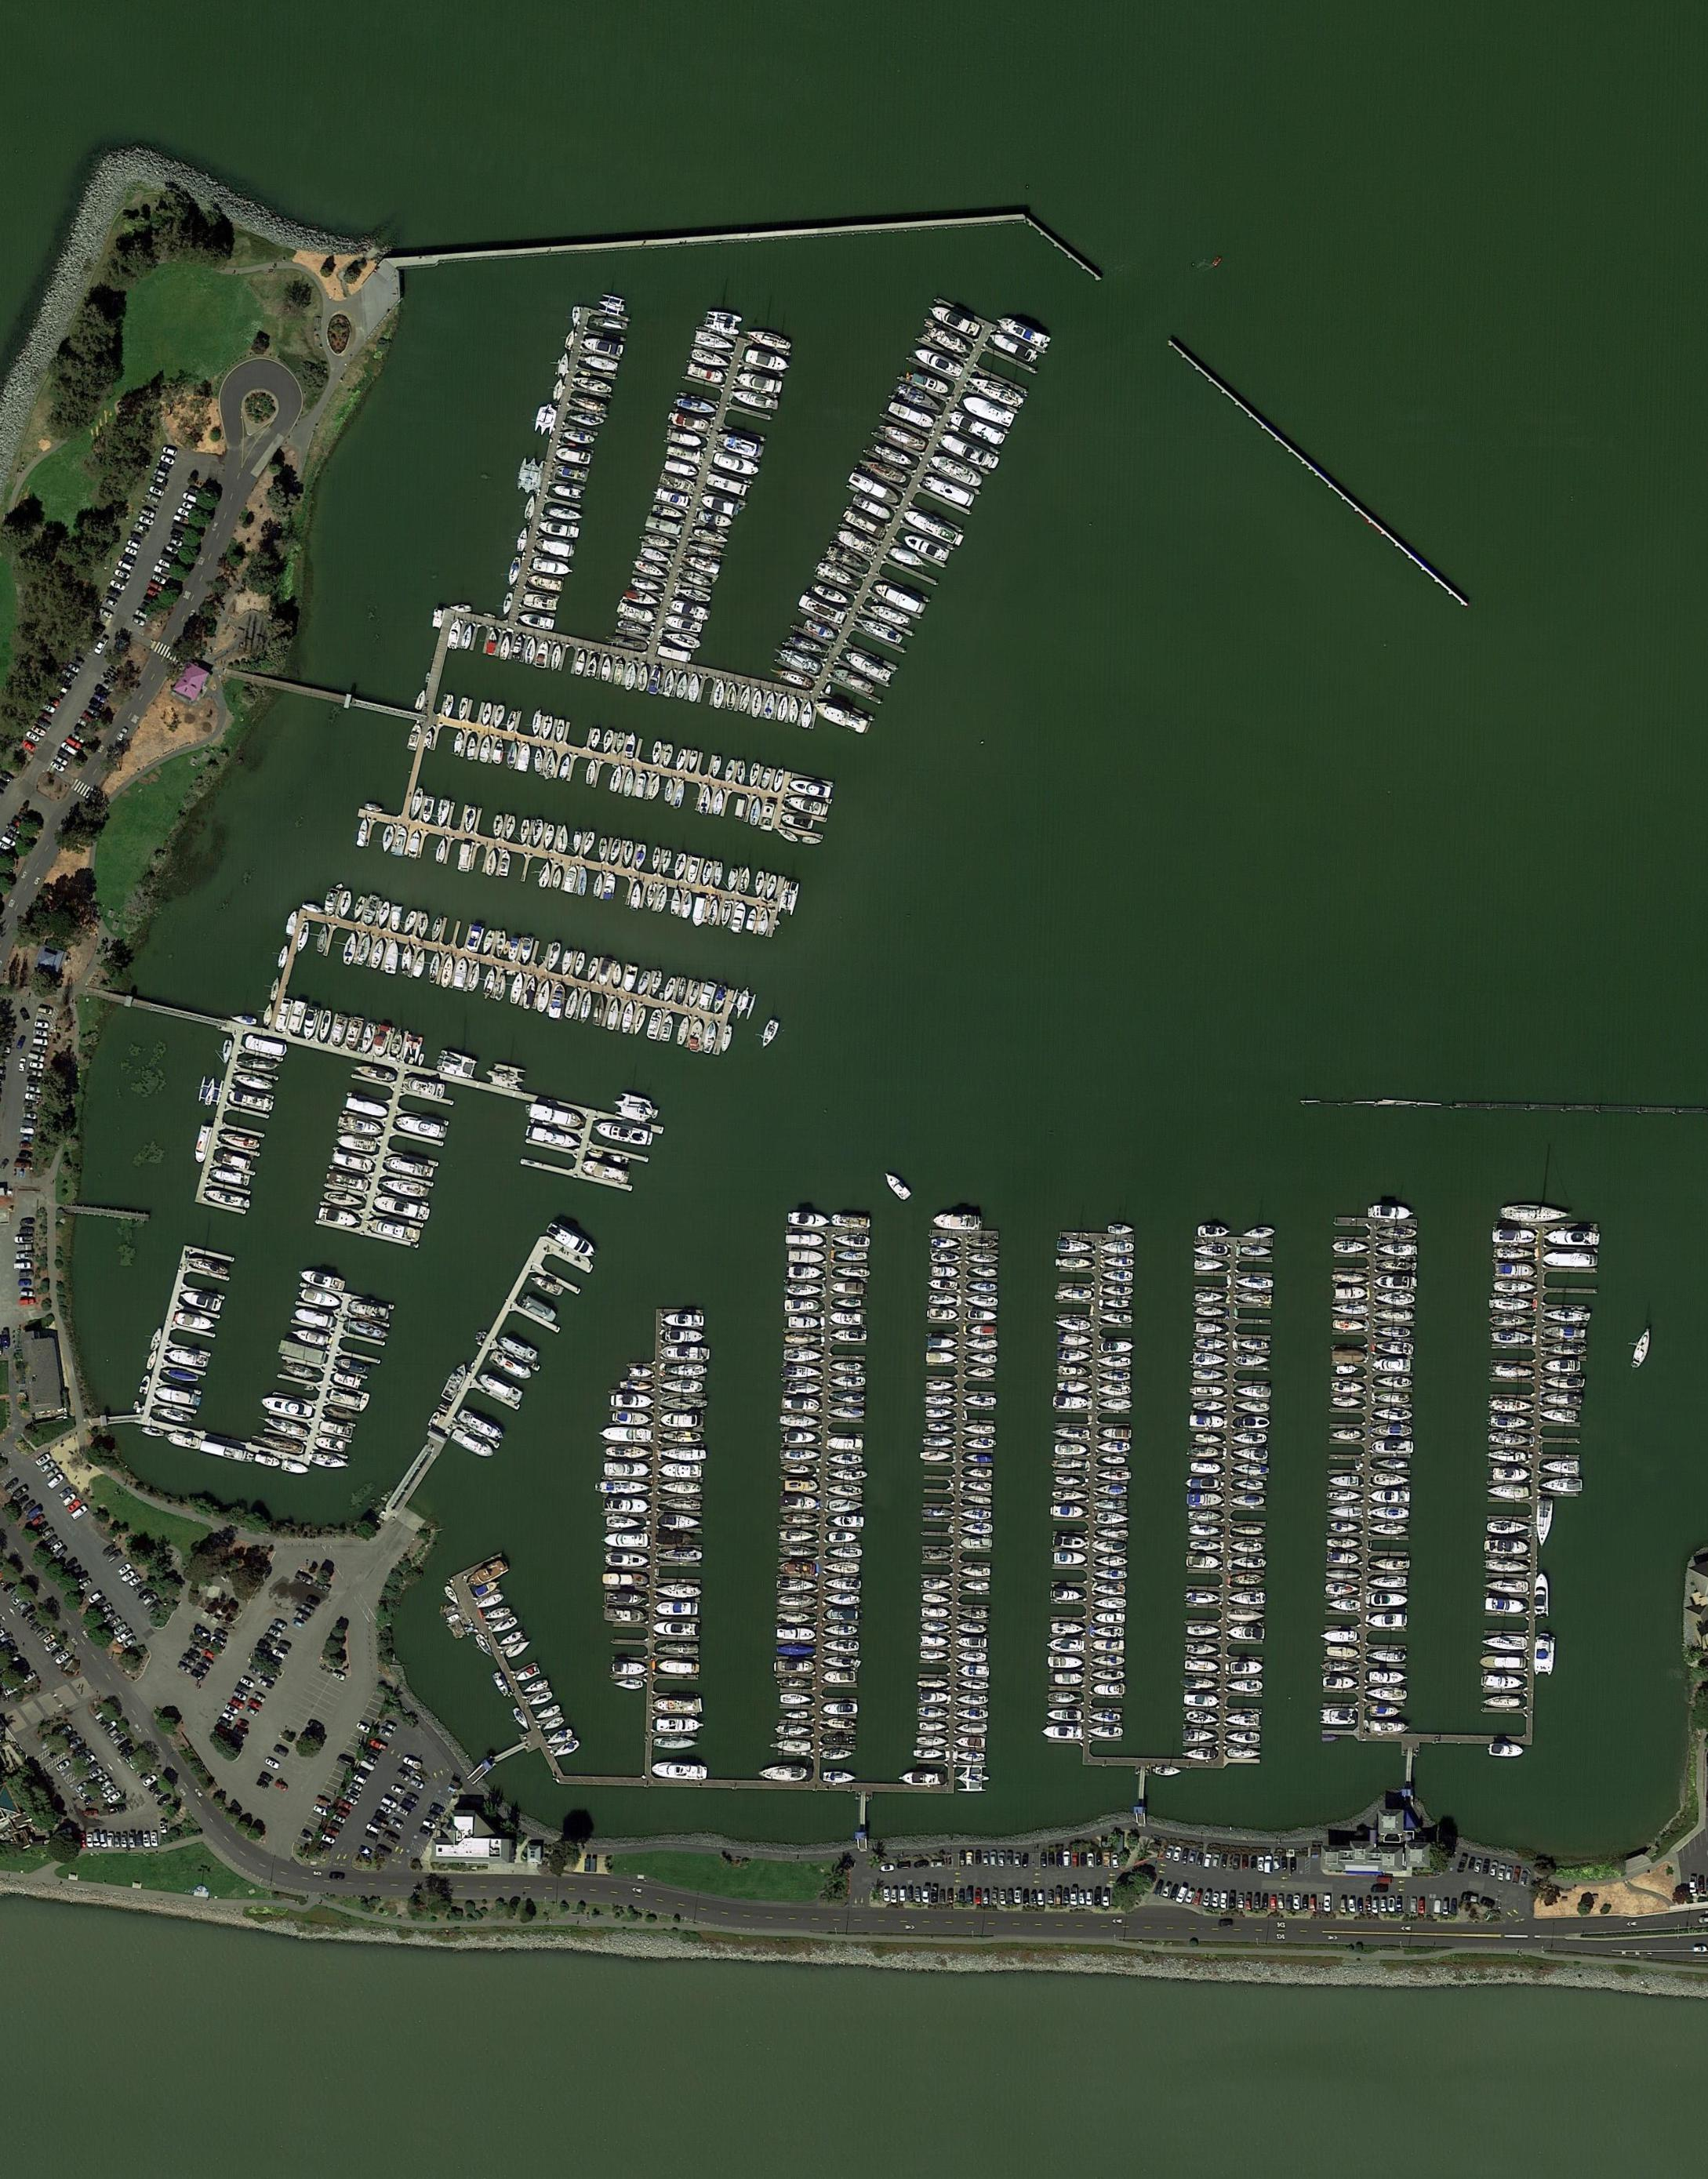harbor: (771, 297, 1048, 715), (299, 883, 737, 1058), (606, 322, 794, 661), (426, 692, 836, 842), (1480, 1219, 1600, 1719), (391, 789, 787, 937), (774, 1224, 872, 1779), (594, 1304, 705, 1778), (1321, 1213, 1418, 1732), (1181, 1236, 1275, 1760), (1045, 1231, 1137, 1756), (914, 1227, 999, 1788), (451, 610, 819, 730), (506, 306, 631, 630), (437, 1235, 598, 1461), (449, 1553, 601, 1781), (315, 1063, 456, 1249), (260, 1282, 394, 1468), (141, 1245, 235, 1429), (194, 1036, 286, 1215), (522, 1093, 667, 1197), (265, 996, 414, 1070)
ship: (937, 432, 1003, 474), (946, 409, 1008, 451), (926, 301, 985, 343), (965, 371, 1027, 410), (958, 391, 1017, 432), (926, 453, 987, 492), (900, 508, 960, 547), (840, 646, 896, 686), (545, 1220, 599, 1261), (872, 582, 930, 619), (812, 699, 870, 736), (995, 313, 1050, 350), (912, 343, 965, 380), (849, 470, 902, 508), (919, 474, 974, 509), (612, 1088, 663, 1125), (923, 322, 972, 359), (456, 1408, 506, 1445), (987, 329, 1038, 364), (371, 1194, 431, 1224), (852, 614, 905, 647), (594, 1120, 652, 1150), (525, 1121, 583, 1151), (366, 1217, 424, 1247), (859, 453, 909, 488), (797, 593, 847, 628), (447, 1426, 497, 1461), (774, 644, 826, 677), (863, 598, 914, 631), (895, 382, 946, 416), (527, 1102, 583, 1132), (877, 421, 930, 453), (486, 1349, 536, 1383), (840, 509, 888, 543), (833, 525, 879, 559), (900, 532, 951, 562), (1499, 1203, 1572, 1224), (889, 400, 937, 432), (477, 1372, 525, 1404), (256, 1394, 313, 1420), (394, 1112, 447, 1141), (736, 368, 785, 398), (714, 432, 764, 462), (713, 449, 762, 479), (810, 578, 854, 612), (467, 1556, 511, 1590), (495, 1334, 541, 1365), (378, 1174, 430, 1203), (815, 559, 859, 591), (483, 1061, 527, 1093), (382, 1155, 435, 1181), (732, 387, 782, 416), (831, 667, 877, 697), (769, 663, 815, 693), (438, 1360, 472, 1401), (744, 325, 796, 352), (582, 1158, 629, 1187), (1627, 1325, 1657, 1369), (299, 1266, 348, 1293), (872, 442, 918, 470), (852, 493, 895, 524), (824, 543, 866, 573), (437, 1051, 479, 1081), (256, 1413, 308, 1438), (200, 1440, 255, 1463), (888, 545, 932, 573), (907, 368, 951, 396), (668, 596, 713, 624), (152, 1387, 202, 1411), (746, 347, 792, 373), (668, 409, 714, 435), (401, 1074, 447, 1100), (249, 1433, 306, 1454), (226, 1089, 274, 1114), (705, 472, 750, 499), (615, 601, 660, 628), (684, 361, 728, 387), (299, 1286, 343, 1312), (787, 630, 827, 658), (787, 776, 833, 801), (663, 426, 705, 453), (515, 456, 545, 493), (728, 983, 757, 1022), (202, 1187, 249, 1210), (674, 394, 718, 419), (347, 1300, 391, 1325), (339, 1114, 384, 1139), (345, 1097, 389, 1121), (882, 1167, 914, 1201), (660, 628, 705, 651), (163, 1348, 209, 1371), (803, 615, 840, 644), (522, 1295, 559, 1323), (180, 1289, 223, 1314), (331, 1150, 373, 1174), (327, 1169, 370, 1194), (704, 308, 743, 334), (527, 1272, 566, 1298), (785, 794, 829, 817), (532, 538, 576, 561), (532, 557, 576, 580), (316, 1206, 361, 1229), (691, 347, 732, 371), (638, 529, 679, 554), (629, 557, 670, 582), (294, 1305, 334, 1330), (290, 1325, 331, 1349), (322, 1187, 362, 1212), (651, 1763, 707, 1781), (1535, 1498, 1554, 1549), (700, 492, 737, 518), (660, 472, 697, 499), (582, 336, 624, 359), (538, 518, 580, 541), (693, 331, 736, 354), (209, 1167, 251, 1190), (219, 1130, 262, 1153), (336, 1134, 378, 1157), (242, 1036, 288, 1058), (932, 1212, 981, 1231), (665, 612, 704, 637), (622, 587, 661, 612), (651, 501, 690, 525), (603, 1424, 652, 1443), (953, 1765, 988, 1792), (345, 1319, 389, 1341), (237, 1054, 281, 1075), (605, 631, 649, 653), (573, 373, 614, 396), (189, 1256, 230, 1279), (281, 1360, 322, 1383), (603, 1569, 651, 1588), (555, 444, 592, 469), (665, 456, 702, 481), (776, 881, 801, 918), (569, 394, 612, 416), (173, 1312, 216, 1334), (232, 1072, 274, 1093), (1535, 1634, 1556, 1677), (682, 554, 721, 577), (667, 444, 705, 467), (598, 292, 631, 318), (532, 401, 559, 435), (661, 1344, 711, 1362), (757, 1017, 782, 1052), (596, 1479, 651, 1495), (1544, 1229, 1598, 1245), (589, 315, 629, 336), (578, 352, 619, 373), (686, 539, 727, 561), (154, 1404, 194, 1426), (214, 1150, 255, 1171), (605, 1606, 649, 1625), (527, 571, 564, 594), (522, 591, 559, 614), (697, 509, 734, 532), (693, 524, 730, 547), (675, 584, 713, 607), (191, 1127, 214, 1164), (603, 1532, 651, 1549), (196, 1075, 223, 1107), (1544, 1252, 1597, 1268), (308, 1452, 350, 1472), (354, 1065, 396, 1084), (656, 644, 695, 665), (617, 615, 652, 638), (605, 1496, 651, 1514), (605, 1551, 651, 1569), (652, 1620, 698, 1638), (566, 410, 606, 430), (757, 1765, 806, 1781), (677, 568, 714, 589), (518, 610, 555, 631), (401, 1031, 426, 1063), (1369, 1203, 1413, 1220), (605, 1461, 649, 1479), (1483, 1539, 1528, 1556), (1482, 1634, 1526, 1652), (629, 573, 663, 596), (900, 1770, 948, 1786), (654, 1583, 702, 1599), (652, 1698, 700, 1714), (656, 1717, 704, 1733), (1369, 1487, 1411, 1505), (329, 1013, 350, 1049), (343, 1017, 364, 1052), (357, 1021, 378, 1056), (1485, 1486, 1531, 1502), (1483, 1578, 1529, 1594), (550, 1739, 582, 1762), (1370, 1611, 1407, 1631), (336, 1357, 373, 1376), (322, 1404, 359, 1424), (164, 1431, 202, 1450), (776, 1576, 817, 1594), (1376, 1273, 1416, 1291), (1485, 1597, 1526, 1615), (656, 488, 690, 509), (638, 547, 672, 568), (1365, 1719, 1409, 1735), (1492, 1229, 1536, 1245), (1369, 1424, 1413, 1440), (661, 1328, 705, 1344), (654, 1601, 698, 1617), (660, 1397, 709, 1411), (545, 1726, 575, 1749), (490, 1615, 520, 1638), (562, 428, 598, 447), (320, 1420, 355, 1440), (785, 1231, 824, 1249), (1492, 1466, 1531, 1484), (548, 982, 566, 1021), (339, 932, 359, 967), (1041, 1724, 1084, 1740), (773, 1659, 815, 1675), (661, 1463, 704, 1479), (658, 1514, 700, 1530), (787, 1210, 829, 1226), (660, 1548, 702, 1564), (1542, 1309, 1590, 1323), (1540, 1479, 1582, 1495), (546, 506, 583, 524), (555, 463, 589, 483), (301, 1006, 320, 1040), (373, 1024, 393, 1058), (709, 983, 728, 1017), (700, 1021, 720, 1054), (286, 1001, 306, 1035), (408, 787, 428, 821), (728, 900, 748, 934), (654, 1735, 700, 1749), (610, 1395, 656, 1410), (1483, 1558, 1529, 1572), (1480, 1655, 1526, 1670), (1369, 1505, 1409, 1521), (785, 1298, 826, 1314), (1487, 1519, 1528, 1535), (534, 860, 555, 890), (502, 1640, 532, 1661), (476, 1592, 506, 1613), (492, 1670, 513, 1700), (958, 1535, 994, 1553), (1050, 1533, 1086, 1551), (1491, 1365, 1535, 1380), (1489, 1399, 1533, 1413), (1489, 1415, 1533, 1429), (661, 1314, 705, 1328), (660, 1380, 704, 1394), (661, 1447, 705, 1461), (656, 1641, 700, 1655), (619, 999, 637, 1035), (536, 978, 553, 1013), (1535, 1574, 1549, 1618), (831, 1213, 870, 1229), (778, 1544, 817, 1560), (826, 1436, 865, 1452), (1227, 1625, 1266, 1641), (1367, 1650, 1406, 1666), (1496, 1263, 1535, 1279), (1372, 1358, 1411, 1374), (782, 812, 813, 831), (161, 1367, 200, 1383), (362, 893, 382, 925), (562, 985, 582, 1017), (354, 934, 373, 966), (1542, 1459, 1581, 1475), (1544, 1390, 1582, 1406), (515, 1664, 541, 1687), (1365, 1687, 1407, 1701), (1494, 1281, 1536, 1295), (1491, 1330, 1533, 1344), (1487, 1433, 1529, 1447), (1370, 1440, 1413, 1454), (1367, 1523, 1409, 1537), (658, 1659, 700, 1673), (606, 1445, 649, 1459), (1485, 1449, 1528, 1463), (1545, 1342, 1588, 1357), (1480, 1675, 1522, 1689), (534, 1701, 562, 1723), (522, 1677, 550, 1698), (1050, 1586, 1084, 1604), (645, 1008, 663, 1042), (675, 1015, 693, 1049), (688, 1017, 705, 1051), (295, 920, 313, 953), (382, 941, 400, 975), (509, 971, 527, 1005), (782, 1495, 819, 1510), (1227, 1608, 1264, 1624), (1376, 1341, 1413, 1357), (1087, 1724, 1125, 1740), (787, 1249, 824, 1265), (787, 1265, 824, 1281), (660, 975, 679, 1005), (698, 982, 718, 1012), (465, 923, 484, 953), (771, 1739, 812, 1753), (1377, 1243, 1418, 1258), (1376, 1259, 1416, 1273), (1376, 1293, 1416, 1307), (782, 1397, 822, 1411), (661, 1480, 702, 1495), (606, 1590, 647, 1604), (605, 1516, 645, 1530), (658, 1429, 704, 1441), (916, 1705, 951, 1721), (1057, 1238, 1093, 1254), (1056, 1254, 1091, 1270), (1057, 1316, 1093, 1332), (835, 1233, 870, 1249), (835, 1265, 870, 1281), (780, 1562, 815, 1578), (1326, 1645, 1361, 1661), (1321, 1709, 1356, 1724), (1096, 1440, 1132, 1456), (1236, 1415, 1271, 1431), (552, 485, 583, 502), (315, 1436, 347, 1454), (545, 941, 562, 973), (316, 1010, 334, 1042), (370, 937, 387, 969), (440, 953, 456, 989), (481, 966, 497, 1001), (522, 975, 538, 1010), (1052, 1395, 1091, 1410), (827, 1374, 866, 1388), (1377, 1226, 1416, 1240), (1374, 1408, 1413, 1422), (1370, 1556, 1409, 1571), (1369, 1576, 1407, 1590), (1232, 1463, 1271, 1477), (783, 1365, 822, 1380), (785, 1348, 824, 1362), (614, 1411, 652, 1426), (759, 803, 778, 831), (322, 888, 341, 916), (1545, 1376, 1584, 1390), (1482, 1694, 1521, 1709), (391, 826, 410, 854), (527, 1689, 555, 1709), (513, 1705, 532, 1733), (1491, 1298, 1535, 1311), (1491, 1314, 1535, 1327), (665, 1364, 709, 1376), (1542, 1327, 1586, 1339), (965, 1293, 999, 1309), (1054, 1551, 1087, 1567), (822, 1670, 856, 1686), (1369, 1703, 1402, 1719), (591, 994, 606, 1028), (578, 989, 594, 1022), (1542, 1408, 1575, 1424), (331, 1390, 361, 1408), (645, 773, 663, 803), (274, 1003, 292, 1033), (461, 805, 479, 835), (690, 898, 707, 929), (1048, 1640, 1086, 1654), (1047, 1655, 1084, 1670), (1047, 1709, 1084, 1723), (831, 1328, 868, 1342), (829, 1404, 866, 1418), (780, 1415, 822, 1427), (778, 1627, 815, 1641), (824, 1578, 861, 1592), (1326, 1505, 1363, 1519), (1326, 1537, 1363, 1551), (1227, 1680, 1264, 1694), (1376, 1374, 1413, 1388), (1229, 1592, 1266, 1606), (1094, 1355, 1132, 1369), (1231, 1447, 1268, 1461), (1186, 1493, 1224, 1507), (785, 1383, 822, 1397), (660, 1413, 697, 1427), (660, 1500, 702, 1512), (1544, 1358, 1581, 1372), (474, 1632, 495, 1657), (589, 872, 608, 898), (474, 1579, 500, 1599), (1227, 1712, 1259, 1728), (1093, 1682, 1125, 1698), (1094, 1482, 1126, 1498), (447, 619, 463, 651), (606, 998, 622, 1029), (315, 923, 331, 955), (412, 948, 428, 980), (453, 957, 469, 989), (555, 822, 571, 854), (672, 851, 688, 883), (506, 557, 522, 589), (1494, 1247, 1535, 1259), (1369, 1671, 1409, 1684), (1369, 1594, 1409, 1606), (1234, 1277, 1275, 1289), (1048, 1673, 1084, 1687), (1056, 1426, 1091, 1440), (1057, 1334, 1093, 1348), (829, 1452, 865, 1466), (780, 1528, 815, 1542), (829, 1500, 865, 1514), (822, 1701, 858, 1716), (1326, 1551, 1361, 1565), (1326, 1597, 1361, 1611), (1323, 1675, 1358, 1689), (1225, 1732, 1261, 1746), (1335, 1240, 1370, 1254), (1333, 1272, 1369, 1286), (1333, 1286, 1369, 1300), (1374, 1473, 1409, 1487), (1232, 1556, 1268, 1571), (1193, 1337, 1229, 1351), (1234, 1355, 1270, 1369), (1185, 1694, 1220, 1709), (1185, 1677, 1220, 1691), (460, 623, 477, 651), (332, 1372, 361, 1390), (787, 1282, 822, 1296), (709, 789, 727, 817), (697, 785, 714, 814), (481, 927, 499, 955), (598, 959, 615, 987), (562, 865, 580, 893), (601, 874, 619, 902), (628, 883, 645, 911), (652, 884, 670, 913), (631, 844, 649, 872), (736, 865, 753, 893), (407, 830, 424, 858), (484, 1606, 513, 1624), (1491, 1744, 1526, 1758), (776, 824, 799, 845), (778, 1594, 817, 1606), (829, 1468, 868, 1480), (1376, 1309, 1414, 1321), (799, 700, 815, 730), (647, 665, 663, 695), (437, 798, 453, 828), (530, 819, 546, 849), (686, 856, 702, 886), (228, 1010, 258, 1026), (960, 1521, 994, 1535), (918, 1691, 951, 1705), (835, 1249, 868, 1263), (778, 1609, 812, 1624), (1330, 1395, 1363, 1410), (1231, 1661, 1264, 1675), (1333, 1318, 1367, 1332), (1091, 1654, 1125, 1668), (1199, 1224, 1232, 1238), (1093, 1611, 1126, 1625), (1094, 1569, 1128, 1583), (1098, 1383, 1132, 1397), (1098, 1397, 1132, 1411), (1094, 1498, 1128, 1512), (1195, 1353, 1229, 1367), (1243, 1226, 1277, 1240), (1231, 1495, 1264, 1509), (1190, 1445, 1224, 1459), (1188, 1556, 1222, 1571), (1186, 1590, 1220, 1604), (1185, 1643, 1218, 1657), (614, 1663, 647, 1677), (621, 1378, 654, 1392), (582, 759, 599, 785), (299, 900, 325, 918), (265, 976, 283, 1003), (497, 851, 515, 877), (499, 1631, 525, 1648), (147, 1327, 164, 1353), (776, 1724, 813, 1737), (829, 1390, 866, 1403), (783, 1449, 820, 1461), (778, 1645, 815, 1657), (656, 1533, 693, 1546), (827, 1484, 865, 1496), (824, 1594, 861, 1606), (824, 1640, 861, 1652), (1331, 1302, 1369, 1314), (1236, 1293, 1273, 1305), (965, 1394, 997, 1408), (1052, 1622, 1084, 1636), (958, 1666, 990, 1680), (957, 1723, 988, 1737), (831, 1312, 863, 1327), (1330, 1521, 1361, 1535), (1094, 1597, 1126, 1611), (1093, 1625, 1125, 1640), (1093, 1640, 1125, 1654), (1197, 1243, 1229, 1258), (1100, 1427, 1132, 1441), (1098, 1468, 1130, 1482), (1094, 1542, 1126, 1556), (1096, 1555, 1128, 1569), (1183, 1730, 1215, 1744), (1188, 1539, 1220, 1553), (750, 690, 766, 718), (523, 637, 539, 665), (534, 640, 550, 669), (674, 672, 690, 700), (686, 676, 702, 704), (281, 1459, 309, 1475), (255, 1452, 283, 1468), (516, 743, 532, 771), (599, 727, 615, 755), (748, 798, 764, 826), (520, 937, 536, 966), (559, 948, 575, 976), (622, 966, 638, 994), (686, 982, 702, 1010), (389, 1029, 405, 1058), (338, 891, 354, 920), (377, 900, 393, 929), (416, 911, 431, 939), (633, 1005, 647, 1036), (467, 960, 481, 992), (755, 907, 771, 936), (575, 867, 591, 895), (679, 891, 695, 920), (407, 723, 423, 752), (515, 525, 530, 554), (1054, 1443, 1089, 1456), (1100, 1242, 1135, 1254), (1057, 1288, 1093, 1300), (1056, 1381, 1091, 1394), (783, 1480, 819, 1493), (782, 1514, 817, 1526), (820, 1770, 856, 1783), (826, 1609, 861, 1622), (822, 1655, 858, 1668), (1326, 1489, 1361, 1502), (1326, 1583, 1361, 1595), (1324, 1661, 1360, 1673), (1227, 1747, 1262, 1760), (1376, 1325, 1411, 1337), (1376, 1392, 1411, 1404), (1093, 1512, 1128, 1525), (1236, 1385, 1271, 1397), (1236, 1401, 1271, 1413), (1232, 1433, 1268, 1445), (1183, 1747, 1218, 1760), (1190, 1417, 1225, 1429), (1186, 1479, 1222, 1491), (274, 944, 292, 969), (541, 1716, 566, 1733), (1103, 1268, 1133, 1282), (1195, 1258, 1225, 1272), (1102, 1341, 1132, 1355), (1192, 1461, 1222, 1475), (624, 661, 638, 692), (430, 913, 444, 943), (400, 944, 414, 975), (428, 952, 442, 982), (785, 699, 801, 725), (484, 630, 500, 656), (575, 651, 591, 677), (608, 766, 624, 792), (477, 736, 493, 762), (661, 776, 677, 803), (672, 782, 688, 808), (649, 969, 665, 996), (352, 895, 368, 921), (518, 817, 534, 844), (606, 838, 622, 865), (667, 888, 682, 914), (433, 837, 449, 863), (764, 874, 780, 900), (522, 495, 538, 522), (500, 591, 516, 617), (964, 1438, 997, 1450), (1052, 1489, 1086, 1502), (957, 1709, 990, 1721), (955, 1737, 988, 1749), (1057, 1349, 1091, 1362), (1057, 1364, 1091, 1376), (1331, 1381, 1365, 1394), (1333, 1349, 1367, 1362), (1231, 1574, 1264, 1586), (1091, 1712, 1125, 1724), (1149, 1765, 1183, 1778), (1098, 1369, 1132, 1381), (1096, 1526, 1130, 1539), (1238, 1339, 1271, 1351), (1186, 1712, 1220, 1724), (1188, 1525, 1222, 1537), (1186, 1625, 1220, 1638), (1185, 1661, 1218, 1673), (787, 1318, 820, 1330), (965, 1466, 994, 1480), (964, 1507, 992, 1521), (958, 1636, 987, 1650), (1330, 1473, 1358, 1487), (1195, 1321, 1224, 1335), (1236, 1479, 1264, 1493), (737, 686, 751, 715), (776, 695, 790, 723), (713, 681, 727, 709), (511, 635, 525, 663), (550, 644, 564, 672), (599, 656, 614, 684), (612, 658, 626, 686), (637, 663, 651, 692), (661, 669, 675, 697), (633, 771, 647, 799), (545, 750, 559, 778), (506, 739, 520, 768), (622, 768, 637, 796), (507, 934, 522, 962), (423, 796, 437, 824), (543, 822, 557, 851), (583, 830, 598, 858), (458, 844, 472, 872), (700, 860, 714, 888), (555, 352, 569, 380), (964, 1424, 995, 1436), (965, 1337, 997, 1349), (916, 1735, 948, 1747), (1052, 1505, 1084, 1518), (1048, 1691, 1080, 1703), (822, 1562, 859, 1572), (826, 1717, 858, 1730), (1330, 1427, 1361, 1440), (1324, 1631, 1356, 1643), (1376, 1457, 1407, 1470), (1102, 1312, 1133, 1325), (1094, 1585, 1126, 1597), (1193, 1401, 1225, 1413), (492, 706, 507, 730), (454, 697, 470, 722), (414, 688, 430, 713), (637, 971, 652, 996), (484, 851, 500, 875), (827, 1362, 863, 1372), (1326, 1569, 1361, 1579), (1091, 1670, 1126, 1680), (1229, 1542, 1264, 1553), (764, 693, 778, 720), (725, 684, 739, 711), (624, 732, 638, 759), (492, 739, 506, 766), (573, 952, 587, 978), (585, 955, 599, 982), (674, 978, 688, 1005), (493, 932, 507, 959), (403, 907, 417, 934), (660, 1015, 674, 1042), (720, 1026, 734, 1052), (285, 909, 299, 936), (493, 973, 507, 999), (492, 812, 506, 838), (504, 815, 518, 842), (705, 898, 720, 925), (720, 900, 734, 927), (622, 840, 637, 867), (660, 849, 674, 875), (751, 870, 766, 897), (382, 826, 396, 852), (964, 1480, 994, 1493), (960, 1565, 990, 1578), (921, 1606, 951, 1618), (921, 1620, 951, 1632), (957, 1652, 987, 1664), (833, 1282, 863, 1295), (923, 1434, 953, 1447), (919, 1449, 949, 1461), (833, 1516, 863, 1528), (1195, 1307, 1225, 1319), (1193, 1369, 1224, 1381), (1241, 1245, 1271, 1258), (357, 817, 370, 847), (686, 750, 702, 773), (357, 1390, 373, 1413), (362, 801, 385, 817), (820, 1749, 854, 1760), (824, 1625, 858, 1636), (1188, 1510, 1222, 1521), (785, 1334, 819, 1344), (964, 1495, 992, 1507), (969, 1309, 997, 1321), (969, 1252, 997, 1265), (969, 1281, 997, 1293), (958, 1622, 987, 1634), (923, 1578, 951, 1590), (1056, 1475, 1084, 1487), (923, 1592, 951, 1604), (930, 1279, 958, 1291), (926, 1380, 955, 1392), (723, 759, 737, 784), (674, 748, 688, 773), (499, 635, 513, 660), (587, 654, 601, 679), (660, 745, 674, 769), (559, 753, 573, 778), (451, 730, 465, 755), (506, 709, 520, 734), (479, 702, 493, 727), (389, 907, 403, 932), (221, 1038, 233, 1067), (725, 868, 739, 893), (260, 1001, 274, 1026), (564, 327, 578, 352), (919, 1638, 951, 1648), (957, 1694, 988, 1705), (780, 1694, 812, 1705), (778, 1677, 810, 1687), (785, 1433, 817, 1443), (831, 1548, 863, 1558), (822, 1733, 854, 1744), (1193, 1387, 1225, 1397), (1232, 1526, 1264, 1537), (430, 608, 446, 630), (444, 1585, 460, 1606), (971, 1325, 997, 1337), (971, 1266, 997, 1279), (958, 1751, 985, 1763), (1195, 1433, 1222, 1445), (773, 768, 785, 794), (750, 762, 762, 789), (140, 1426, 166, 1438), (598, 837, 610, 863), (711, 755, 725, 778), (465, 738, 479, 761), (541, 718, 555, 741), (608, 1153, 631, 1167), (744, 907, 759, 930), (644, 886, 658, 909), (552, 378, 566, 401), (967, 1353, 997, 1364), (960, 1581, 990, 1592), (958, 1608, 988, 1618), (918, 1678, 948, 1689), (914, 1749, 944, 1760), (1054, 1459, 1084, 1470), (958, 1680, 988, 1691), (1103, 1286, 1133, 1296), (923, 1509, 953, 1519), (930, 1252, 960, 1263), (928, 1295, 958, 1305), (926, 1337, 957, 1348), (928, 1353, 958, 1364), (925, 1408, 955, 1418), (614, 1680, 644, 1691), (1105, 1224, 1135, 1235), (783, 1709, 808, 1721), (736, 761, 748, 785), (651, 739, 663, 764), (532, 748, 545, 773), (530, 713, 543, 738), (571, 830, 583, 854), (713, 863, 725, 888), (967, 1367, 995, 1378), (965, 1452, 994, 1463), (919, 1721, 948, 1732), (969, 1238, 997, 1249), (923, 1549, 951, 1560), (833, 1298, 861, 1309), (930, 1309, 958, 1319), (926, 1395, 955, 1406), (932, 1238, 960, 1249), (829, 1532, 858, 1542), (1103, 1298, 1132, 1309), (1195, 1291, 1224, 1302), (569, 306, 583, 327), (145, 1351, 159, 1372), (138, 1374, 152, 1395), (760, 768, 773, 791), (424, 725, 437, 748), (555, 720, 568, 743), (449, 601, 472, 614), (1103, 1258, 1135, 1266), (932, 1266, 958, 1277), (926, 1422, 953, 1433), (1100, 1456, 1126, 1466), (921, 1650, 946, 1661), (591, 729, 603, 750), (612, 964, 624, 985), (651, 847, 661, 872), (783, 1464, 812, 1473), (426, 1411, 440, 1429), (615, 732, 626, 755), (444, 695, 454, 718), (552, 868, 564, 888), (446, 1611, 461, 1625), (801, 837, 822, 847), (1335, 1365, 1358, 1374), (628, 1369, 656, 1376), (1321, 1735, 1338, 1744), (1211, 256, 1224, 269), (417, 1052, 428, 1067), (824, 684, 833, 697), (424, 674, 431, 684)
